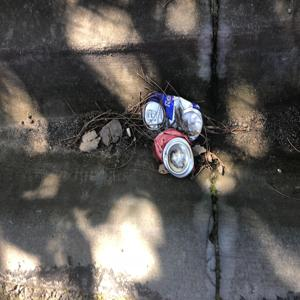metal: (140, 86, 207, 139), (148, 128, 199, 178)
